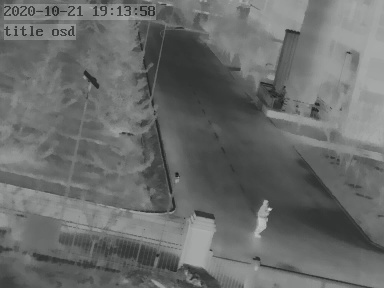person: (254, 196, 271, 240)
